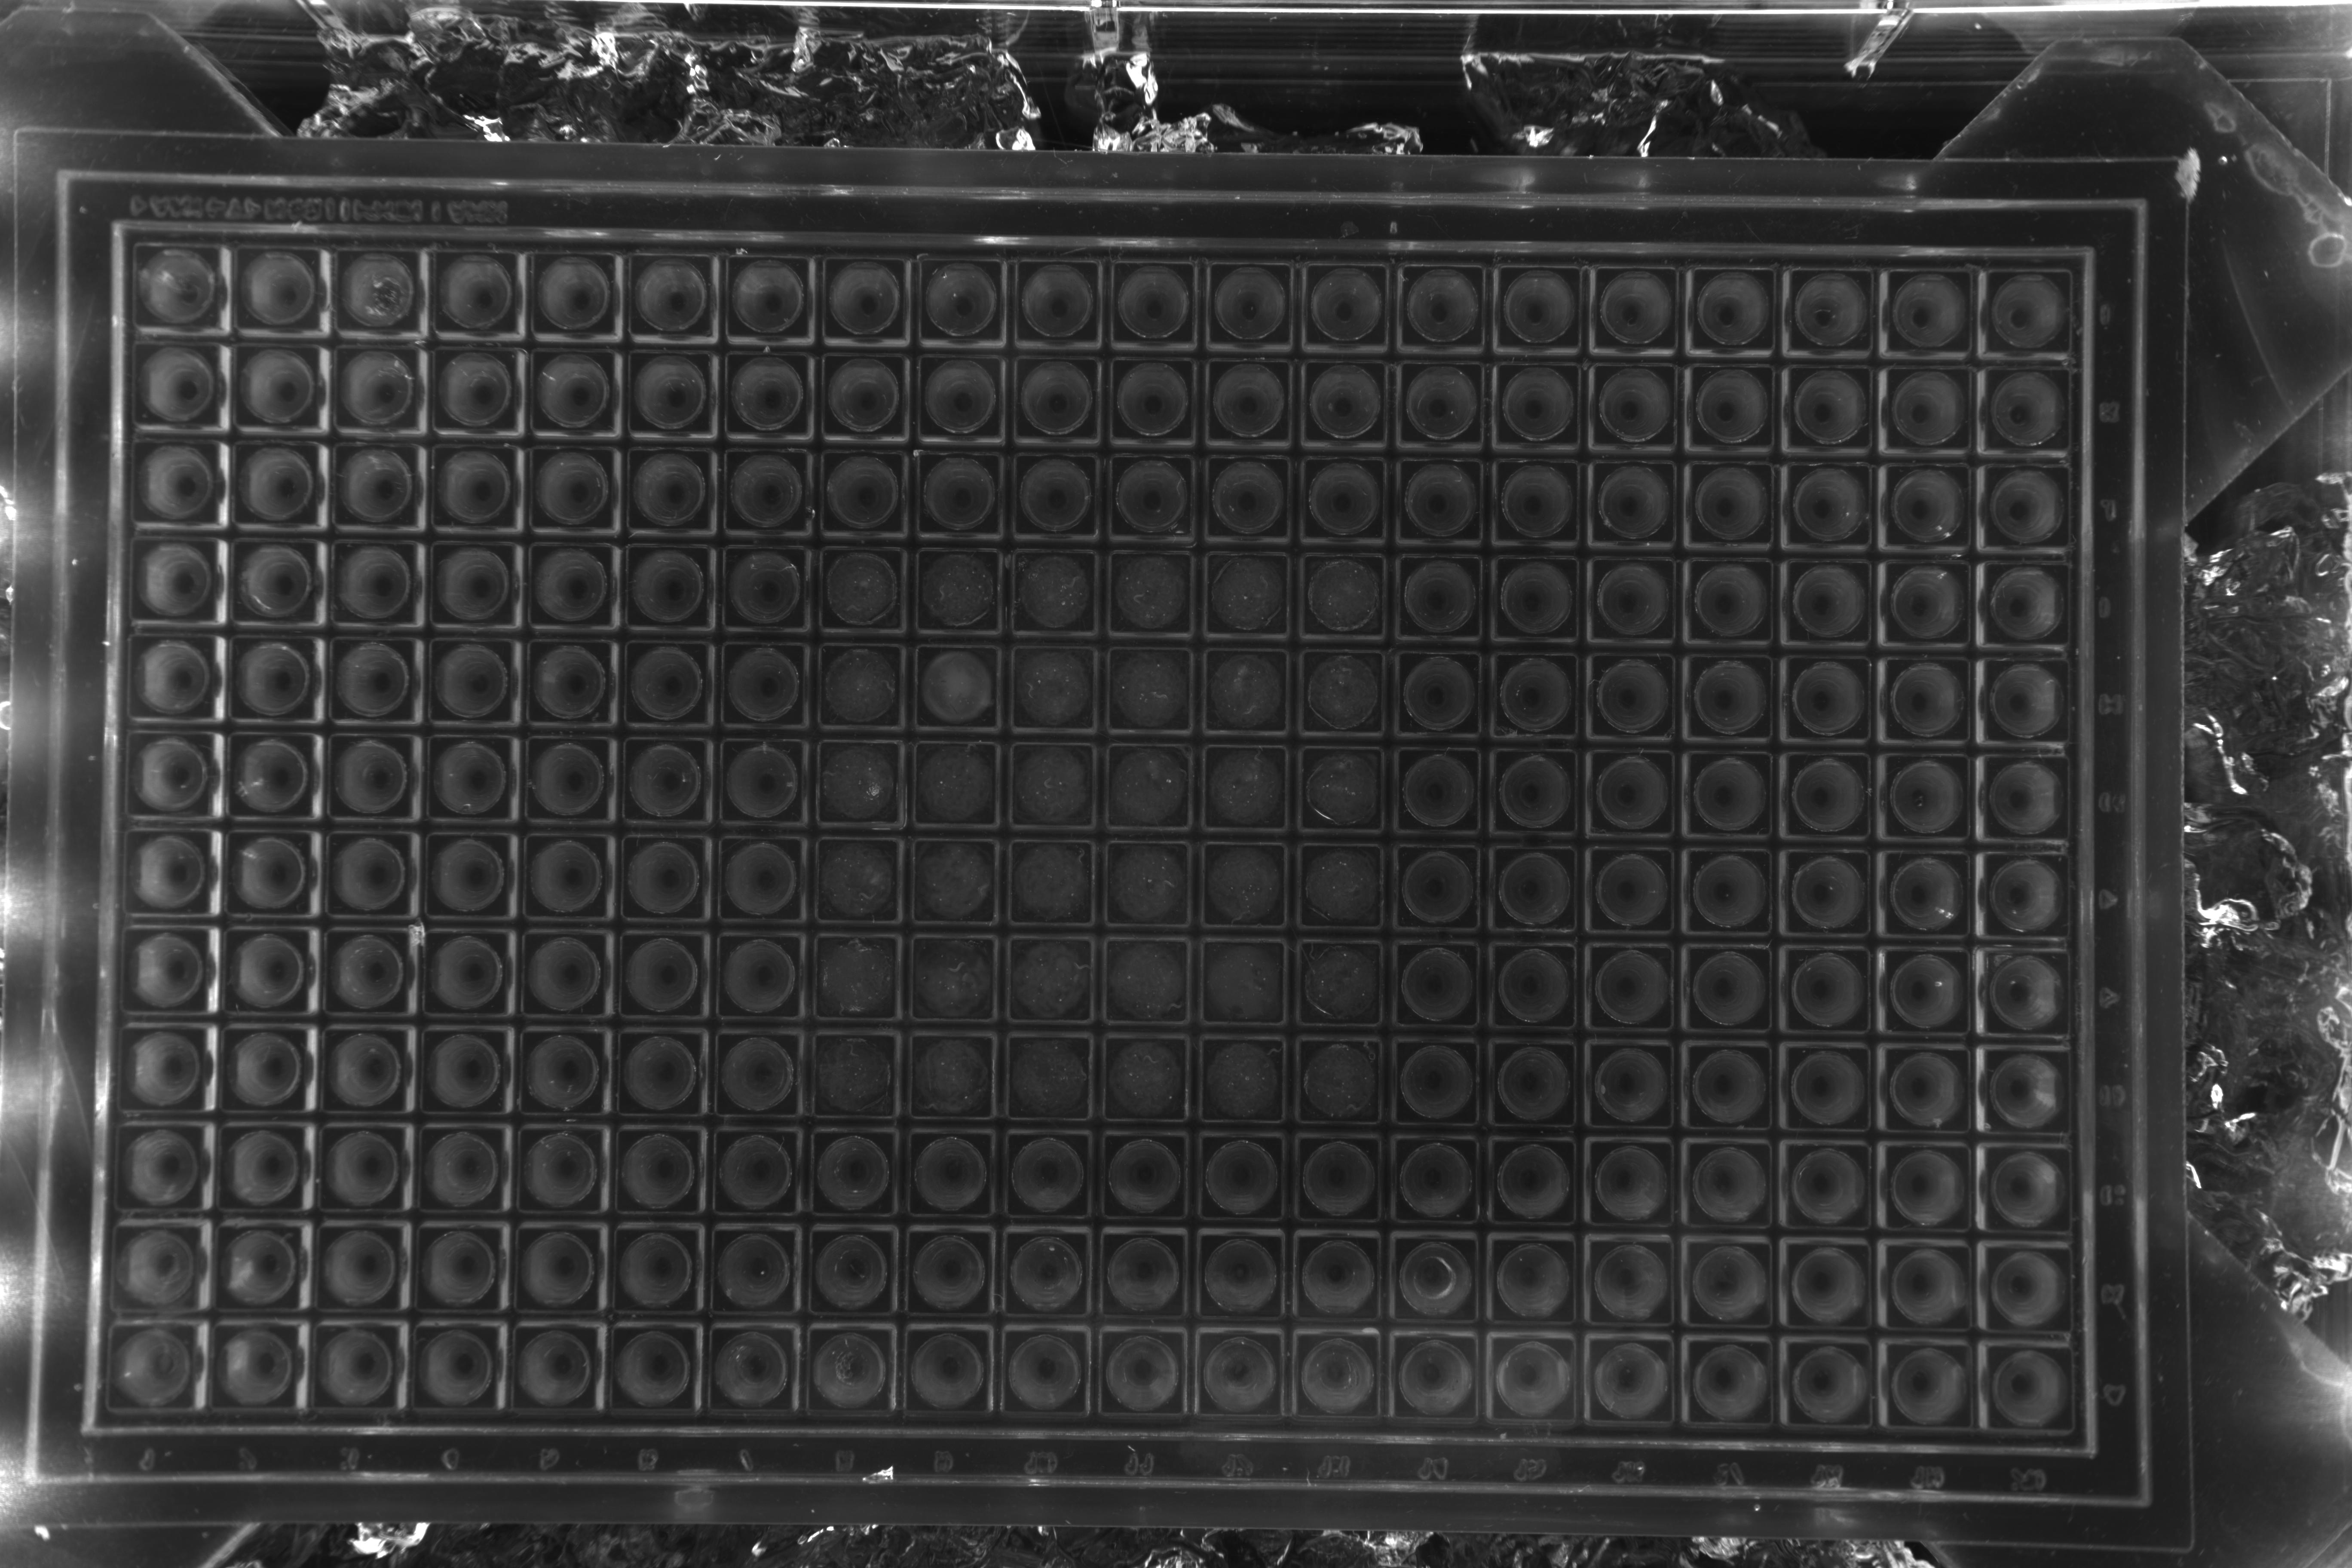WM_well: (299, 845, 388, 933), (885, 850, 975, 938), (1176, 850, 1265, 938), (203, 747, 290, 835), (588, 1241, 675, 1328), (980, 1239, 1067, 1326), (983, 269, 1071, 357), (1080, 560, 1167, 647), (1176, 269, 1263, 357), (1272, 367, 1360, 455), (1274, 754, 1361, 842), (1368, 269, 1456, 357), (1468, 948, 1556, 1036), (1470, 1342, 1557, 1430), (1564, 754, 1652, 842), (1759, 268, 1846, 355), (1760, 658, 1848, 745), (1764, 1150, 1851, 1237), (1860, 854, 1948, 941), (1956, 366, 2044, 453), (1956, 560, 2044, 647)
